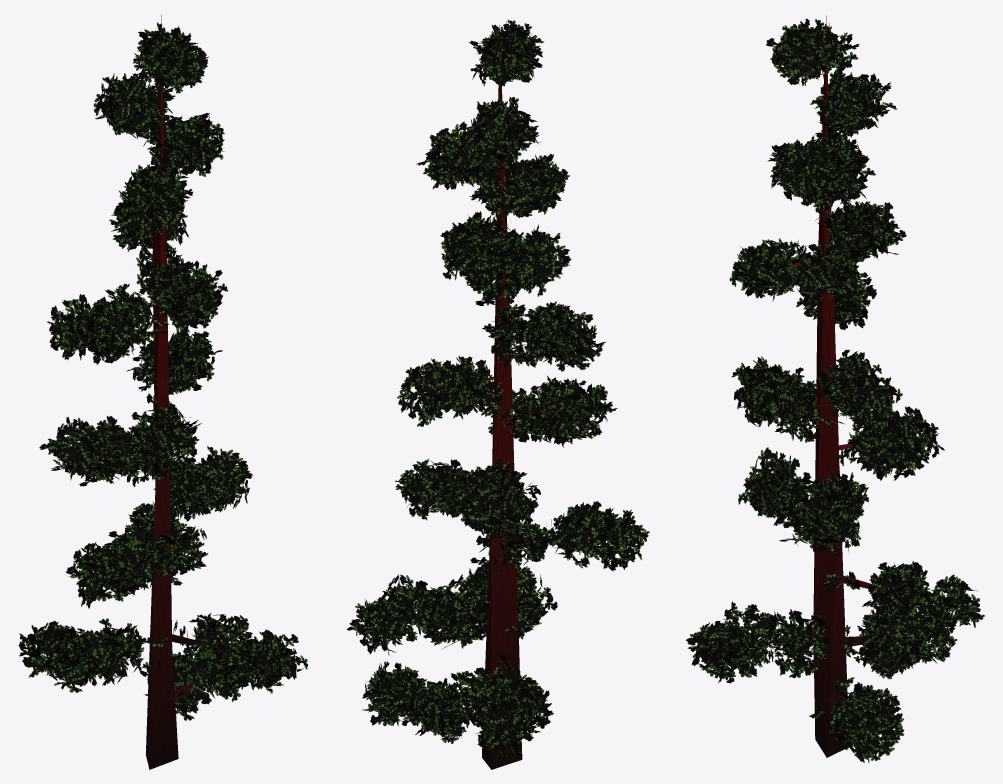
File: spruce_conifer_v01_LOD1.glb
3 renders of one model, left to right at view 1: azimuth 30°, elevation 25°; view 2: azimuth 150°, elevation 25°; view 3: azimuth 270°, elevation 25°, orthographic.
Parts seen in each view (by area): view 1: spruce_conifer_v01_LOD1; view 2: spruce_conifer_v01_LOD1; view 3: spruce_conifer_v01_LOD1.
Part boxes in pixels (<box>): spruce_conifer_v01_LOD1: <box>18,15,307,769</box>; spruce_conifer_v01_LOD1: <box>346,19,649,769</box>; spruce_conifer_v01_LOD1: <box>686,16,985,762</box>.
Bounding box in the file's own units: 7.46 × 21.98 × 8.29.
Materials: 2 (2 with a texture image).
